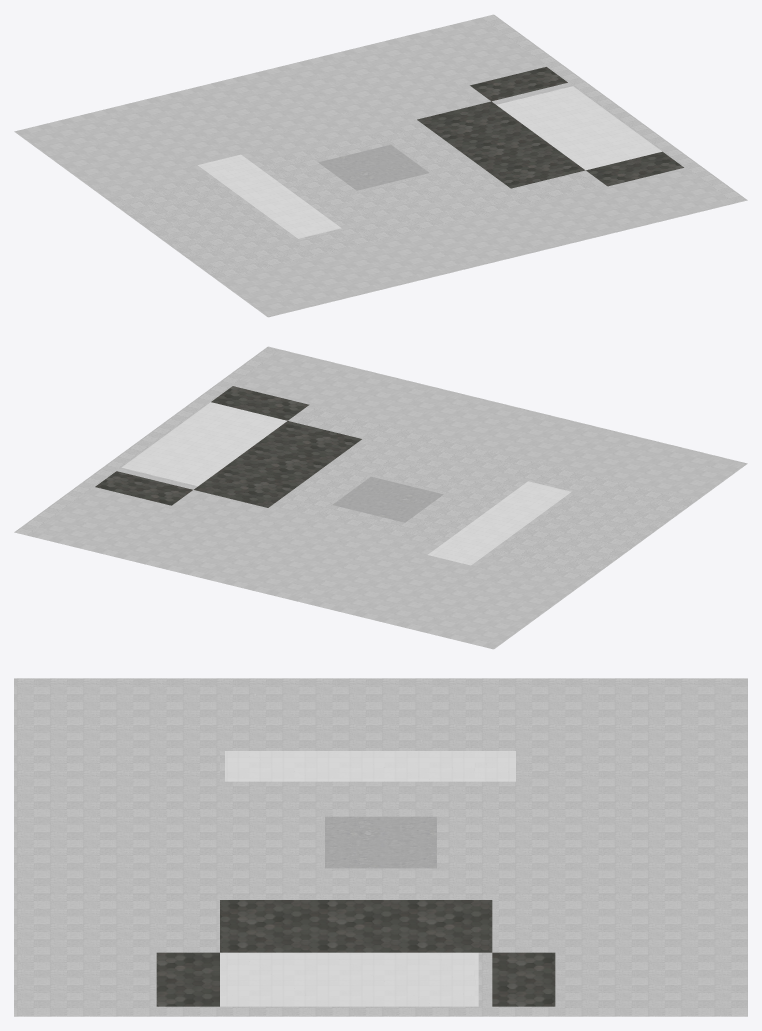
File: Floor.fbx
3 views of the same model, one above another, from view 1: azimuth 30°, elevation 25°; view 2: azimuth 150°, elevation 25°; view 3: azimuth 270°, elevation 25° (orthographic). The views are drawn at different scales.
Visible parts, largest first — view 1: pPlane13; view 2: pPlane13; view 3: pPlane13.
Boxes of the visible parts, left/top/right/bottom form: pPlane13: left=14, top=14, right=747, bottom=317; pPlane13: left=14, top=346, right=747, bottom=649; pPlane13: left=14, top=678, right=747, bottom=1016.
Bounding box in the file's own units: 194 × 0 × 178.
4 materials, 4 textured.
